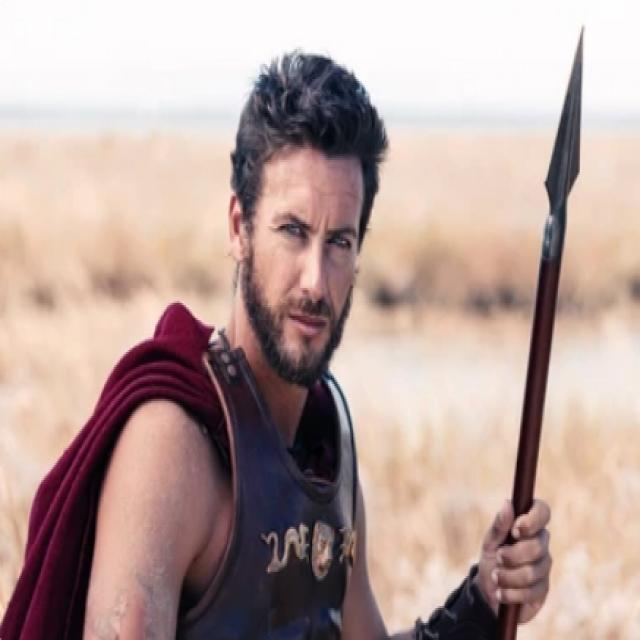spear: (454, 11, 610, 632)
